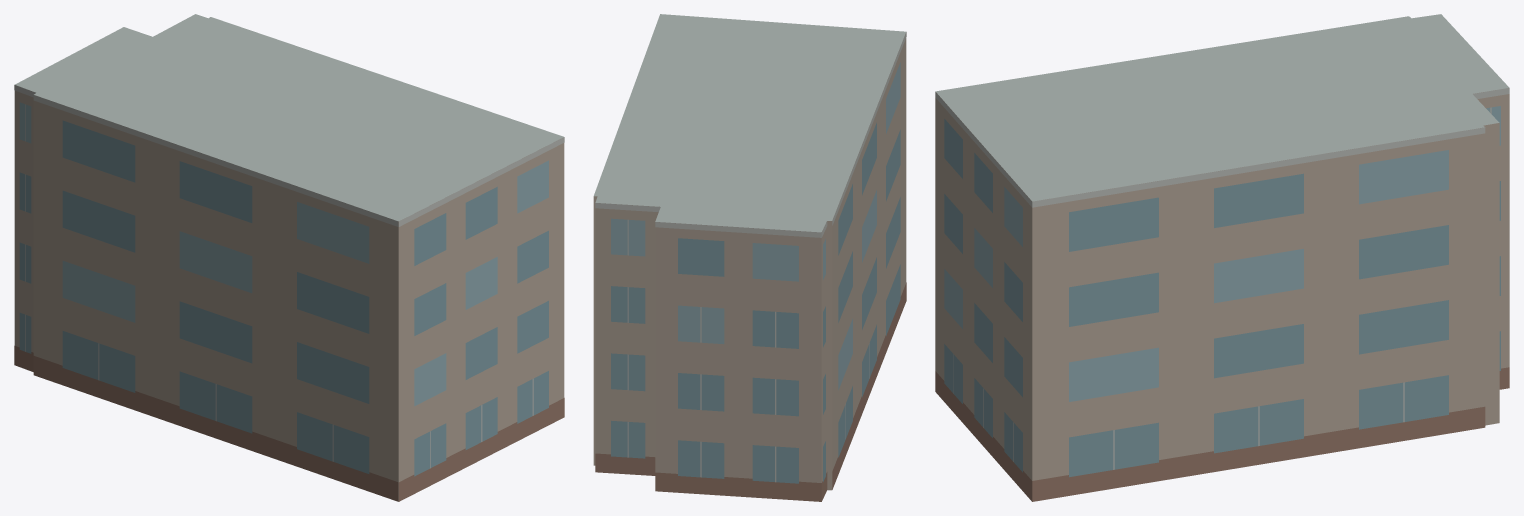
The model's file is survey-upis-32838972.glb.
3 views of the same model, side by side, from view 1: azimuth 30°, elevation 25°; view 2: azimuth 150°, elevation 25°; view 3: azimuth 270°, elevation 25° (orthographic). The views are drawn at different scales.
Parts seen in each view (by area): view 1: survey-upis-32838972.tmp; view 2: survey-upis-32838972.tmp; view 3: survey-upis-32838972.tmp.
Part boxes in pixels (x1,y1,x2,y2): survey-upis-32838972.tmp: (14, 14, 564, 501); survey-upis-32838972.tmp: (593, 14, 906, 501); survey-upis-32838972.tmp: (935, 14, 1509, 501).
Size of the model in its own units: 16.09 by 12 by 20.81.
